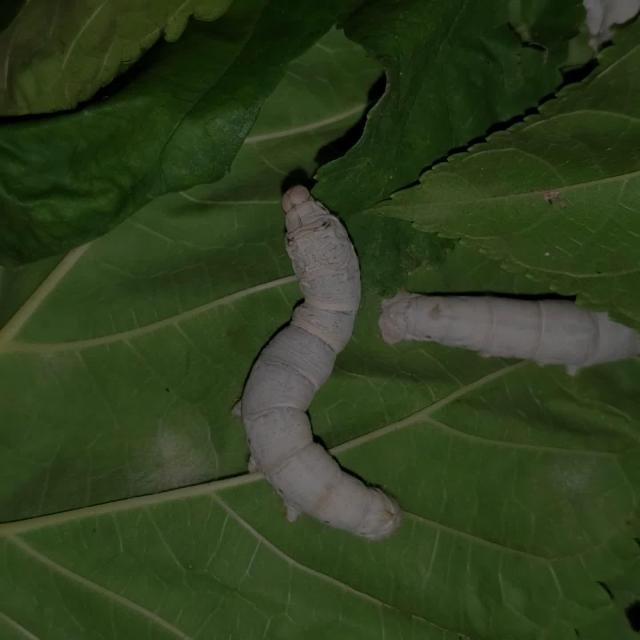Healthy: (223, 179, 408, 543)
